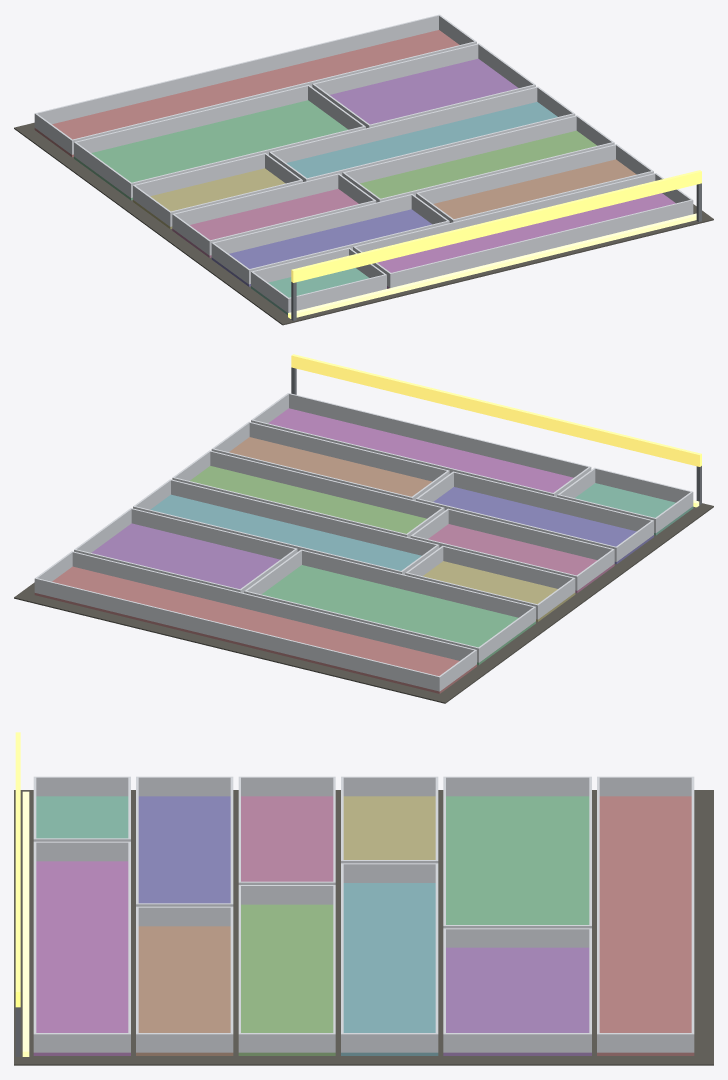
File: hall-water-distrib.glb
3 renders of one model, top to bottom at view 1: azimuth 30°, elevation 25°; view 2: azimuth 150°, elevation 25°; view 3: azimuth 270°, elevation 25°, orthographic. The views are drawn at different scales.
Parts seen in each view (by area): view 1: Water Distribution Fitters; view 2: Water Distribution Fitters; view 3: Water Distribution Fitters.
Boxes of the visible parts, bbox=[...] form: Water Distribution Fitters: bbox=[14, 14, 713, 325]; Water Distribution Fitters: bbox=[14, 354, 713, 703]; Water Distribution Fitters: bbox=[14, 732, 713, 1065].
Bounding box in the file's own units: 38 × 4.3 × 41.
